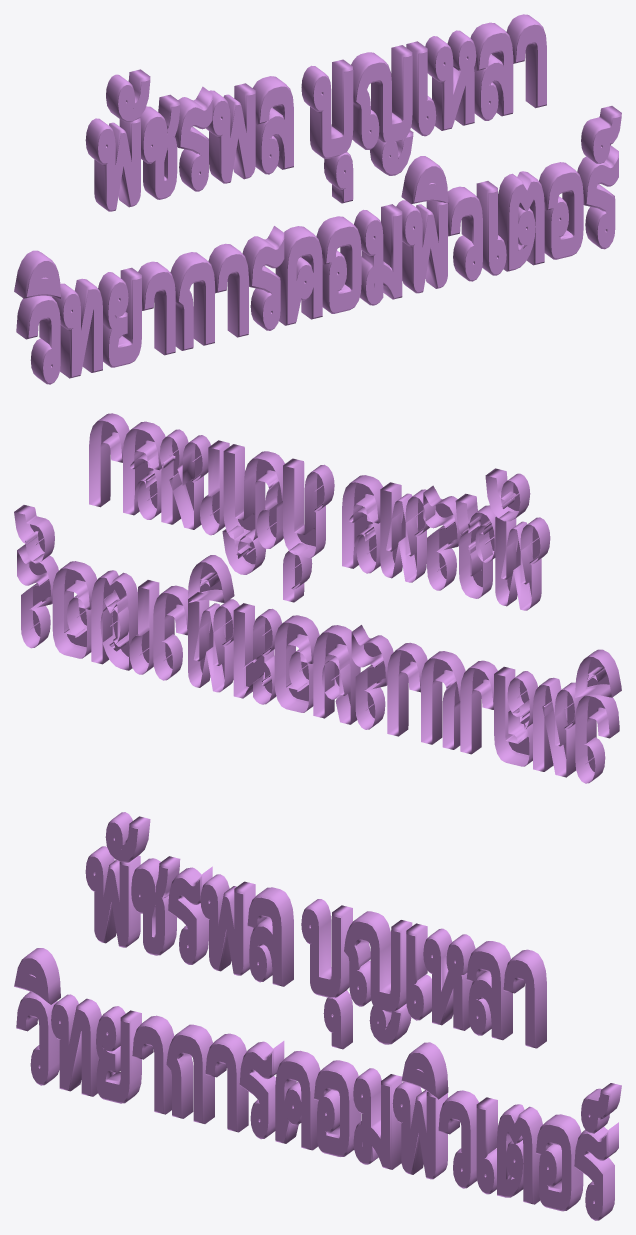
The picture shows the model from 3 angles, top to bottom: view 1: azimuth 30°, elevation 25°; view 2: azimuth 150°, elevation 25°; view 3: azimuth 330°, elevation 25°; orthographic projection.
Parts seen in each view (by area): view 1: Text; view 2: Text; view 3: Text.
Part boxes in pixels (bbox=[...]): Text: bbox=[14, 14, 621, 384]; Text: bbox=[14, 413, 621, 783]; Text: bbox=[14, 812, 621, 1220].
Bounding box in the file's own units: 2.8 × 1.27 × 0.09.
